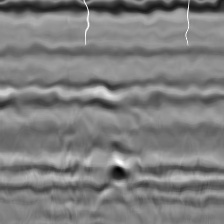Utility: (96, 152, 151, 214)
